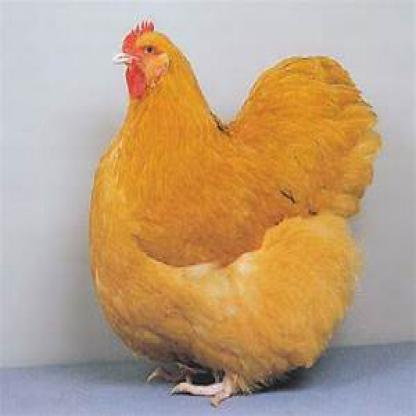chicken: (84, 16, 386, 408)
